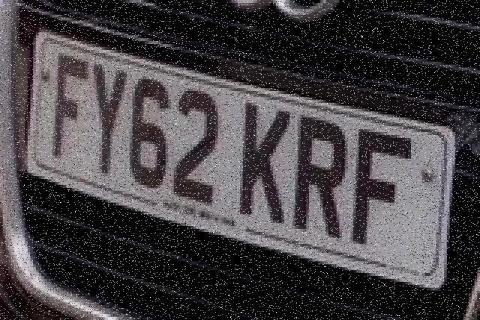LicensePlate: (25, 21, 451, 288)
